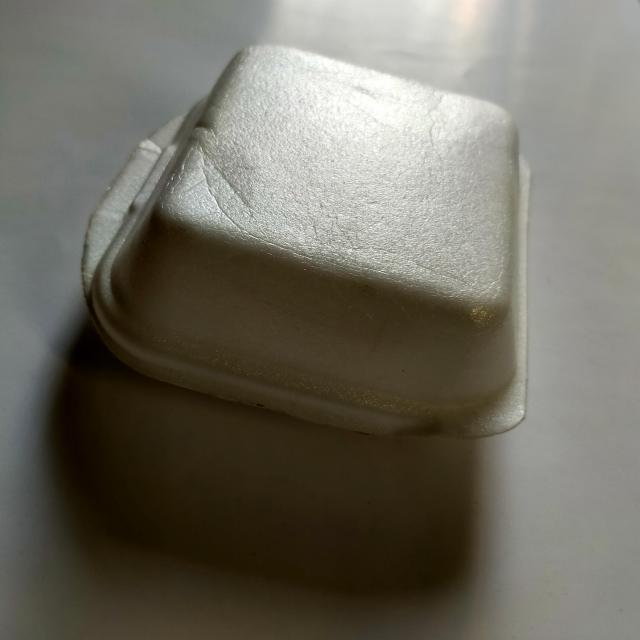styrofoam: (79, 41, 531, 442)
